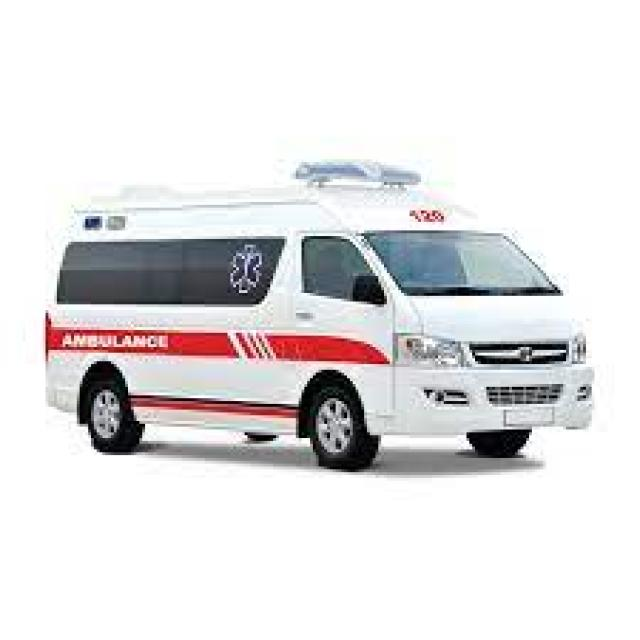ambulance: (40, 156, 597, 470)
